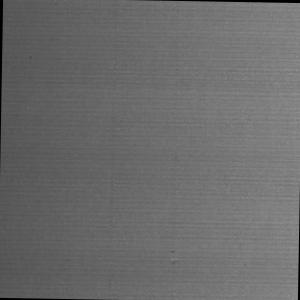Wrinkle: (1, 135, 300, 203), (1, 227, 299, 291), (2, 65, 292, 115)
